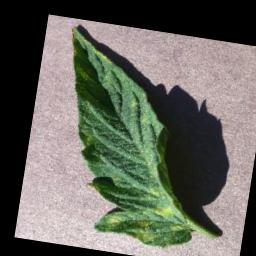Leaf_Mold: (129, 201, 174, 247), (102, 211, 128, 235)
